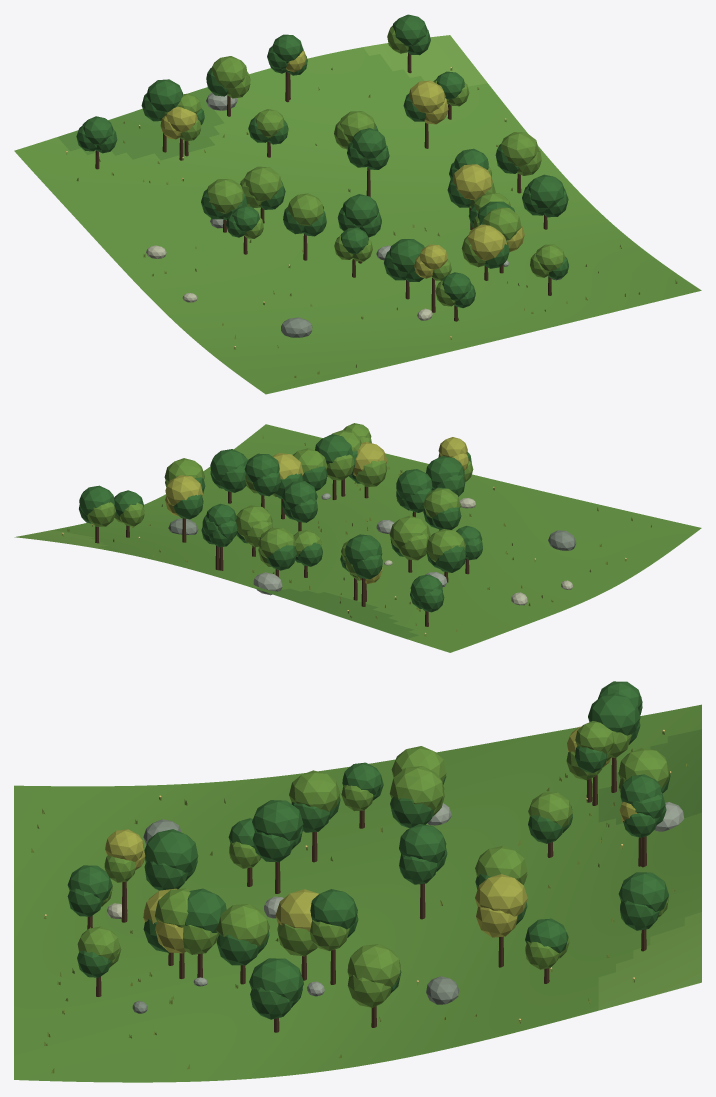
Rendered from Chunk_X2_Y0_Z0.fbx.
3 views of the same model, one above another, from view 1: azimuth 30°, elevation 25°; view 2: azimuth 150°, elevation 25°; view 3: azimuth 270°, elevation 25° (orthographic). The views are drawn at different scales.
Parts seen in each view (by area): view 1: Terrain.038, Canopies.037, Trunks.037, Rocks.038; view 2: Terrain.038, Canopies.037, Rocks.038, Trunks.037, GroundCover.038; view 3: Terrain.038, Canopies.037, Trunks.037, Rocks.038, GroundCover.038.
Boxes of the visible parts, x1=… form: Terrain.038: x1=14, y1=35, x2=701, y2=394; Canopies.037: x1=76, y1=14, x2=568, y2=307; Trunks.037: x1=95, y1=53, x2=551, y2=321; Rocks.038: x1=146, y1=93, x2=562, y2=337; Terrain.038: x1=14, y1=424, x2=701, y2=652; Canopies.037: x1=79, y1=423, x2=482, y2=612; Rocks.038: x1=168, y1=493, x2=576, y2=605; Trunks.037: x1=95, y1=479, x2=469, y2=626; GroundCover.038: x1=61, y1=435, x2=651, y2=636; Terrain.038: x1=14, y1=704, x2=701, y2=1082; Canopies.037: x1=67, y1=681, x2=670, y2=1019; Trunks.037: x1=87, y1=757, x2=646, y2=1032; Rocks.038: x1=107, y1=802, x2=684, y2=1013; GroundCover.038: x1=31, y1=729, x2=688, y2=1073.
Size of the model in its own units: 100 by 29.34 by 100.
